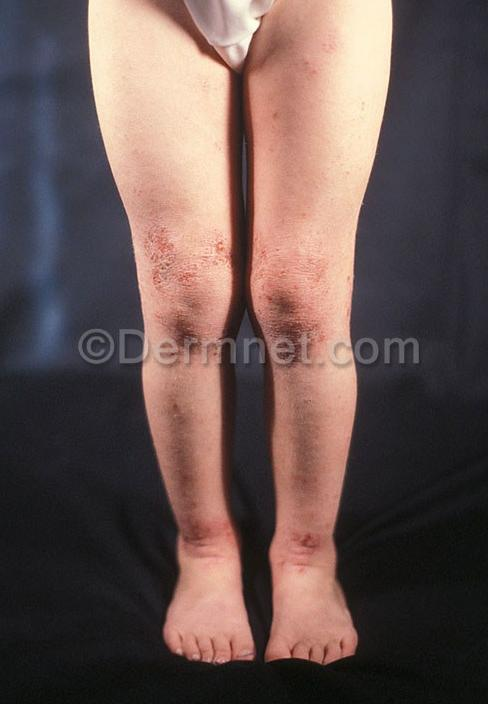exudacion 2: (136, 221, 240, 291), (181, 520, 214, 546), (287, 529, 322, 551)
xerosis 1: (301, 238, 338, 314)
